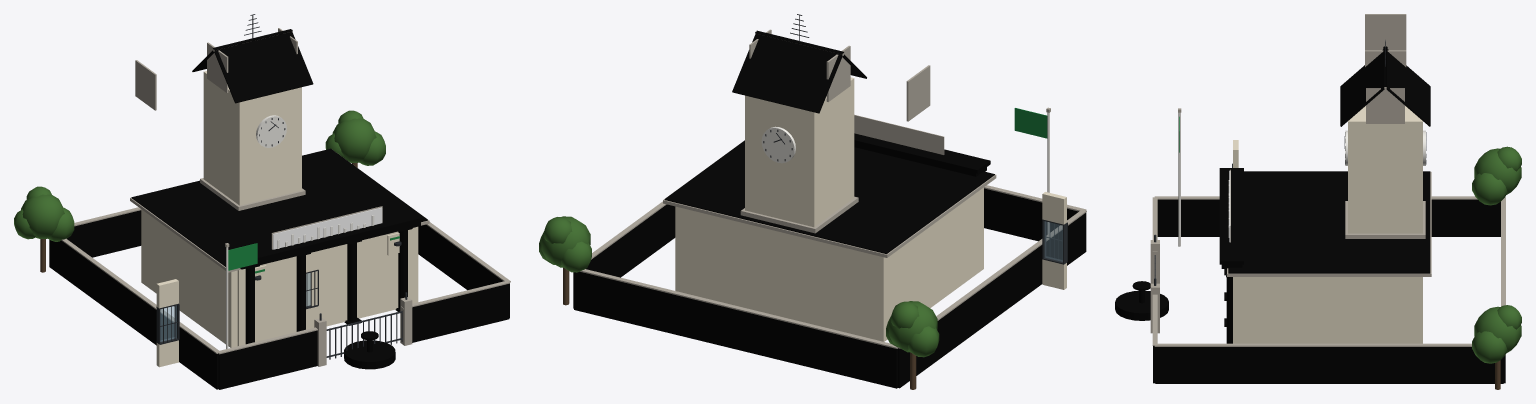
The model's file is city_hall.glb.
3 views of the same model, side by side, from view 1: azimuth 30°, elevation 25°; view 2: azimuth 150°, elevation 25°; view 3: azimuth 270°, elevation 25° (orthographic). The views are drawn at different scales.
Parts seen in each view (by area): view 1: object 53, object 58, object 1, object 7, object 136, object 93, object 4, object 138, object 139, object 137, object 135, cornice (+24 smaller); view 2: object 1, object 135, object 53, object 58, object 136, object 92, object 137, object 138, object 119, cornice, object 140, object 98 (+18 smaller); view 3: object 53, object 1, object 137, object 58, object 136, cornice, object 92, object 93, object 98, object 97, object 142, basin_ring (+14 smaller).
Part boxes in pixels (x1,y1,x2,y2): object 53: (131,148,427,266); object 58: (203,71,301,205); object 1: (141,209,418,347); object 7: (318,228,413,326); object 136: (49,240,218,389); object 93: (213,29,313,103); object 4: (237,256,296,345); object 138: (218,330,317,389); object 139: (412,284,509,342); object 137: (418,224,509,318); object 135: (67,210,141,257); cornice: (257,209,424,261); object 1: (675,187,983,341); object 135: (574,271,897,388); object 53: (664,140,994,253); object 58: (745,77,854,227); object 136: (898,213,1086,388); object 92: (732,30,843,113); object 137: (573,204,675,308); object 138: (984,188,1078,241); object 119: (854,114,944,154); cornice: (854,133,990,173); object 140: (580,269,897,348); object 98: (906,65,930,121); object 53: (1228,171,1430,273); object 1: (1235,277,1422,343); object 137: (1155,347,1503,383); object 58: (1348,106,1422,233); object 136: (1157,199,1500,236); cornice: (1219,168,1243,264); object 92: (1383,46,1430,126); object 93: (1340,46,1387,126); object 98: (1365,14,1406,50); object 97: (1366,88,1404,123); object 142: (1154,343,1471,346); basin_ring: (1115,290,1168,320).
Size of what is drawn, in the model's own units: 23.25 by 15.9 by 21.72.
